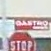stop: (4, 24, 37, 51)
